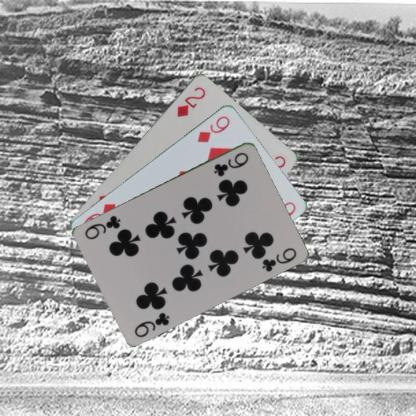2d: (174, 84, 207, 118)
9c: (132, 309, 171, 339), (211, 149, 250, 178)
9d: (194, 113, 231, 144)
